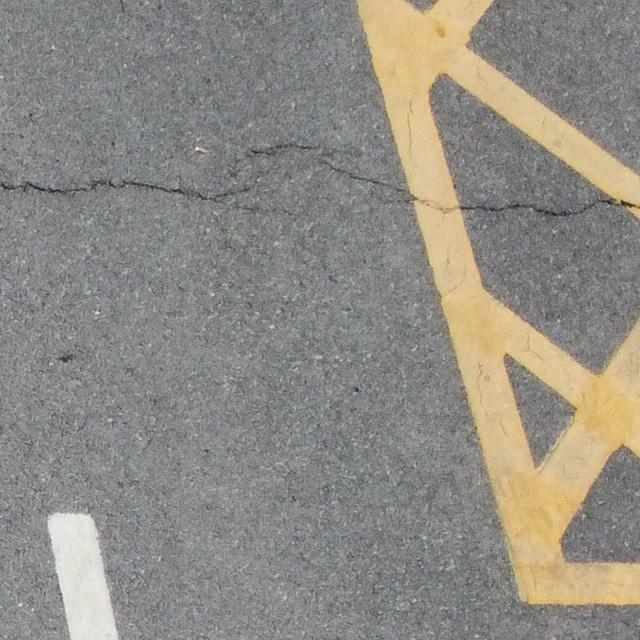TransverseCrack: (236, 142, 640, 217), (1, 176, 277, 212)
